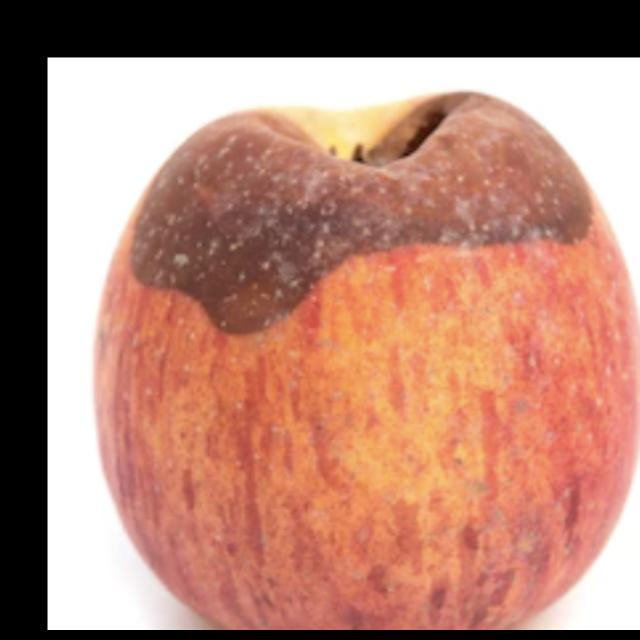Apel Tidak Segar: (96, 71, 640, 624)
